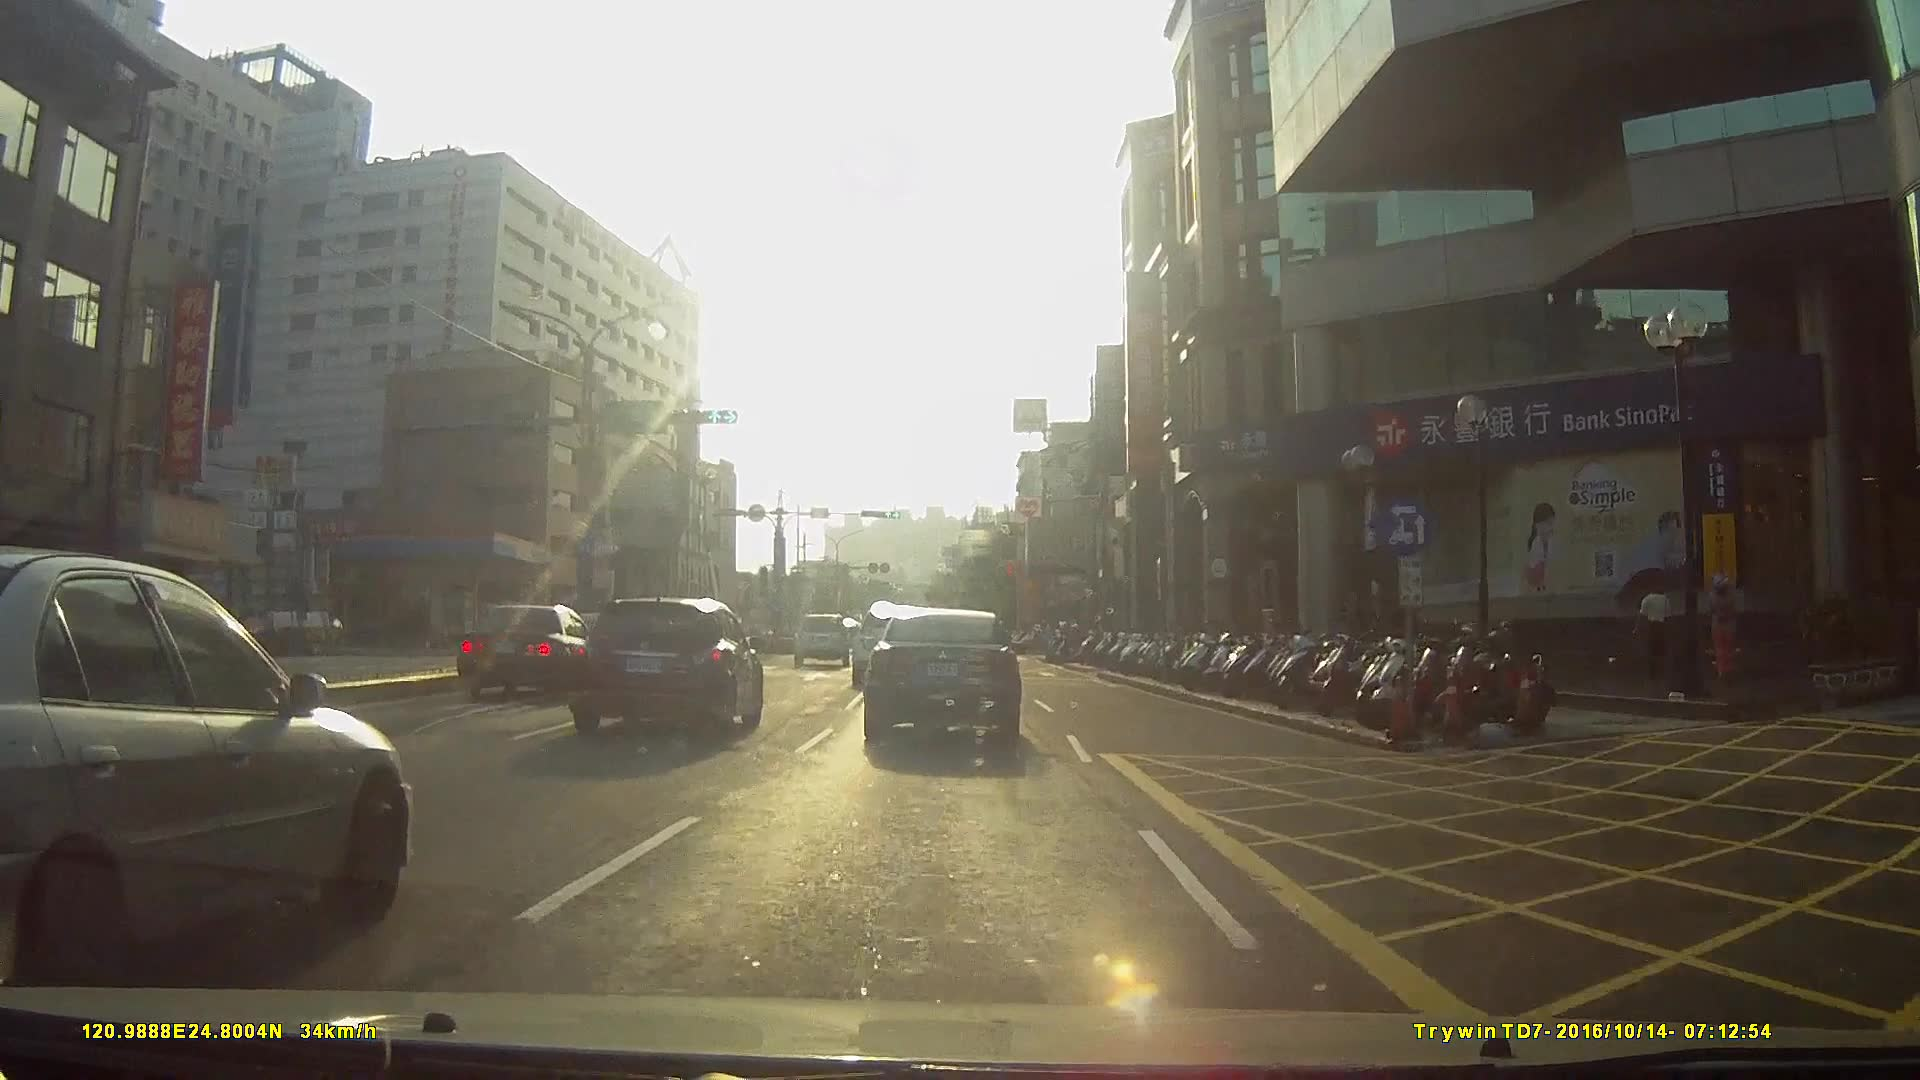pedestrian: (1704, 563, 1753, 706), (1635, 568, 1681, 685)
vehicle: (0, 540, 399, 1008), (558, 589, 757, 734), (861, 604, 1020, 747), (457, 601, 616, 702), (794, 612, 852, 671)
